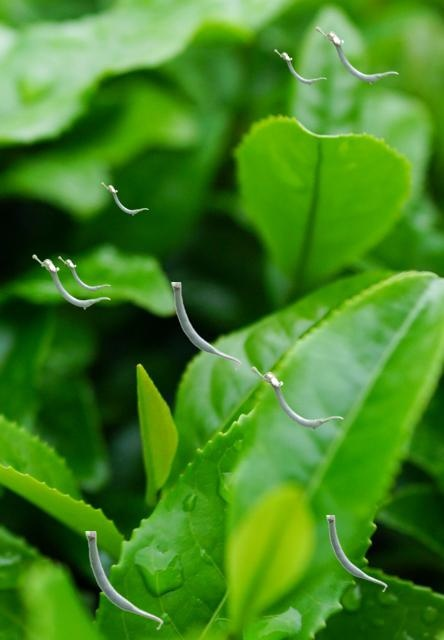french_bean: (85, 531, 162, 629), (171, 282, 240, 369), (251, 366, 342, 429), (315, 26, 397, 83), (326, 515, 386, 591), (32, 254, 109, 308), (274, 49, 325, 84), (58, 256, 109, 291), (101, 182, 147, 214)
